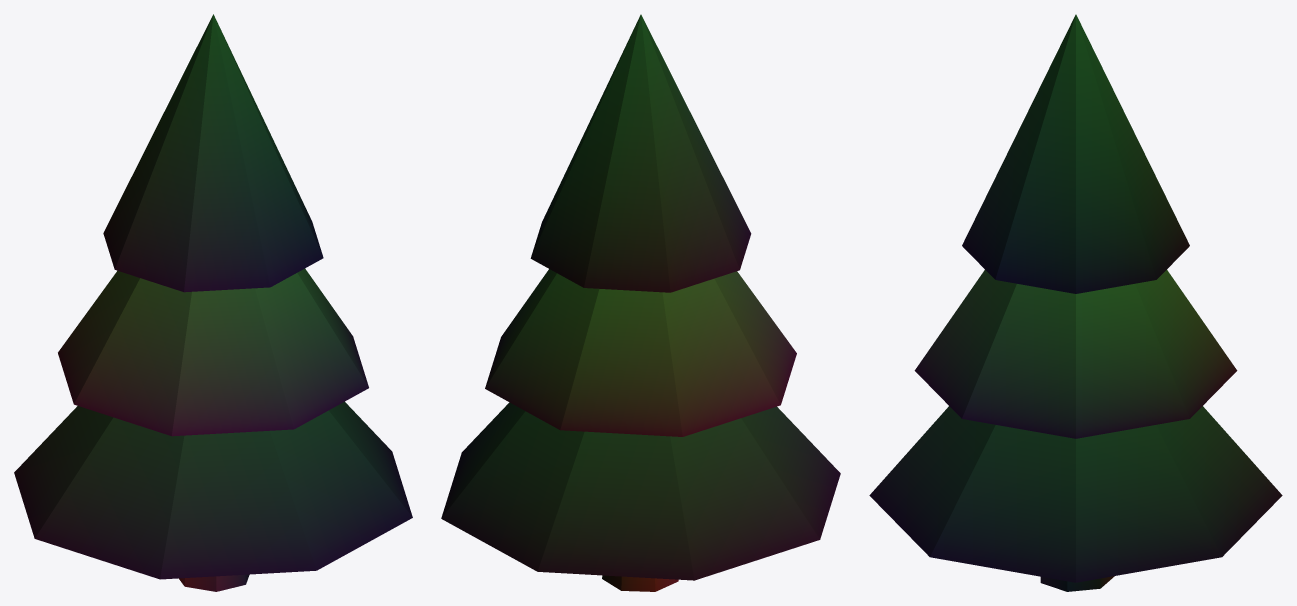
Rendered from PineTree.fbx.
The picture shows the model from 3 angles, left to right: view 1: azimuth 30°, elevation 25°; view 2: azimuth 150°, elevation 25°; view 3: azimuth 270°, elevation 25°; orthographic projection.
Visible parts, largest first — view 1: PineTree; view 2: PineTree; view 3: PineTree.
Boxes of the visible parts, <box> form: PineTree: <box>14,14,412,591</box>; PineTree: <box>441,14,840,591</box>; PineTree: <box>869,14,1282,591</box>.
Size of the model in its own units: 2.1 by 3.15 by 2.1.
